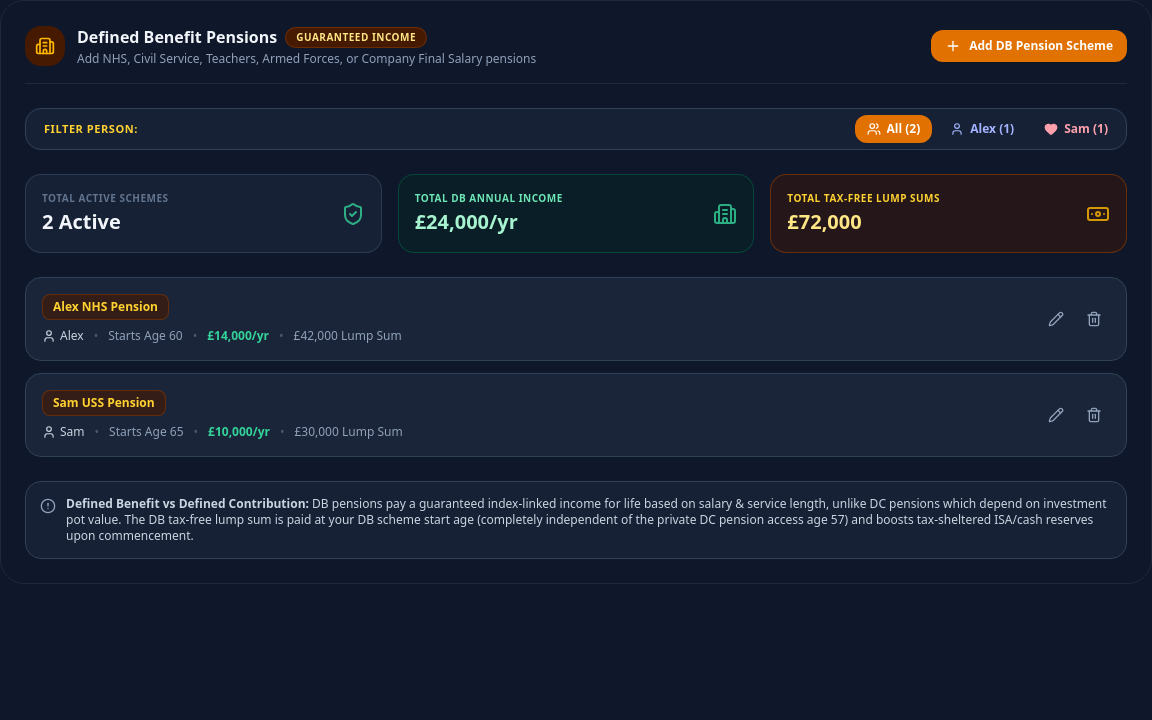
Test: DbPensionManager › supports couple planning mode with person filtering tabs
The width and height of the screenshot is (1152, 720).
Expected: the text "Alex NHS Pension" is shown, top-left (42, 294), bottom-right (169, 320)
Expected: the text "Sam USS Pension" is shown, top-left (42, 390), bottom-right (166, 416)
// Click Alex (Primary) filter button
Click the button "Alex (1)" at [982, 129], box top-left (938, 115), bottom-right (1026, 143)
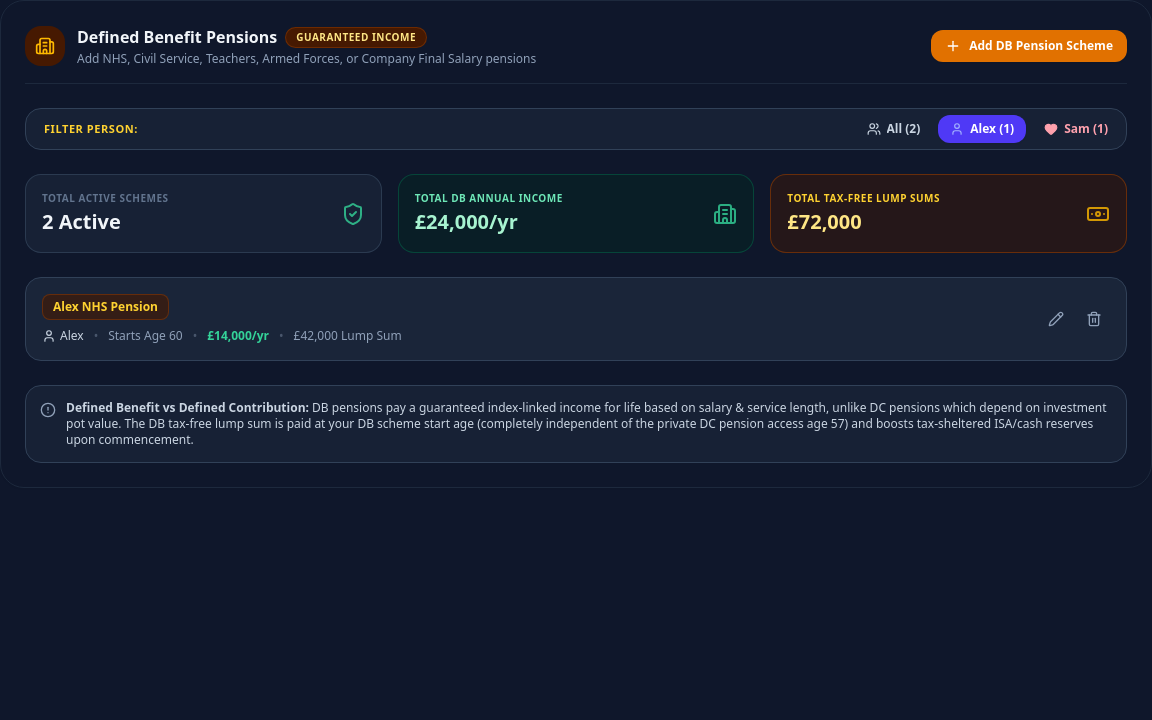
Expected: the text "Alex NHS Pension" is shown, top-left (42, 294), bottom-right (169, 320)
Expected: the text "Sam USS Pension" is gone
// Click Sam (Partner) filter button
Click the button "Sam (1)" at [1076, 129], box top-left (1032, 115), bottom-right (1120, 143)
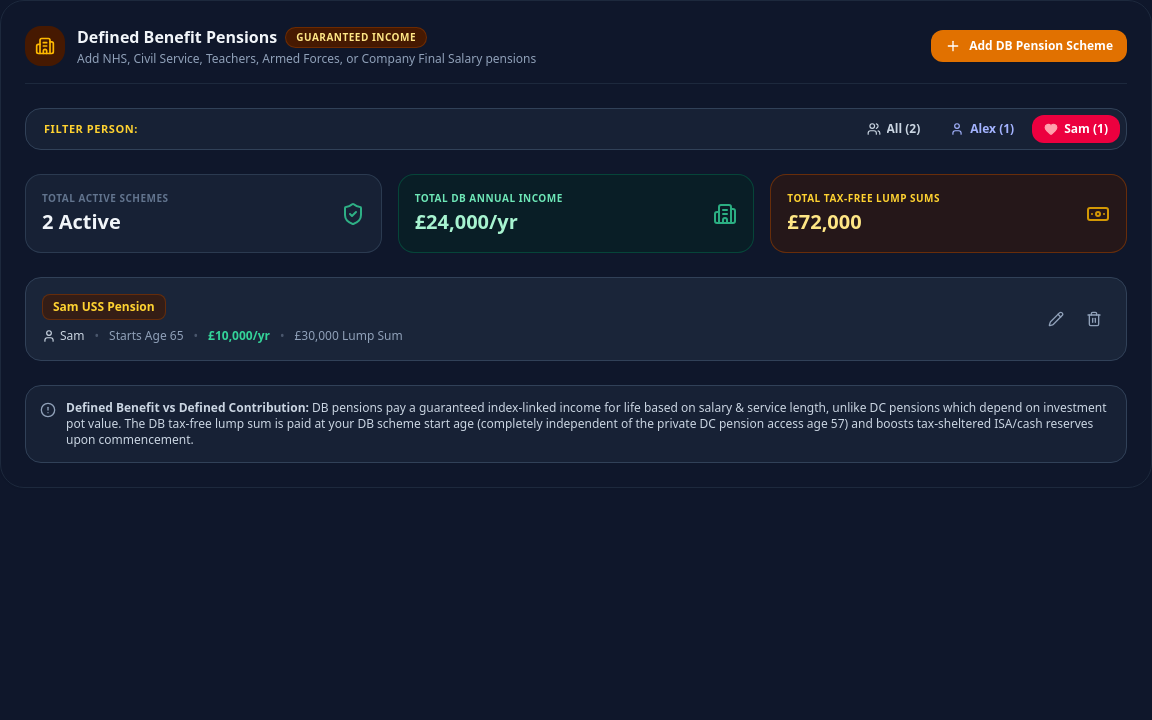
Expected: the text "Sam USS Pension" is shown, top-left (42, 294), bottom-right (166, 320)
Expected: the text "Alex NHS Pension" is gone
// Click All filter button
Click the button "All (2)" at [893, 129], box top-left (854, 115), bottom-right (932, 143)
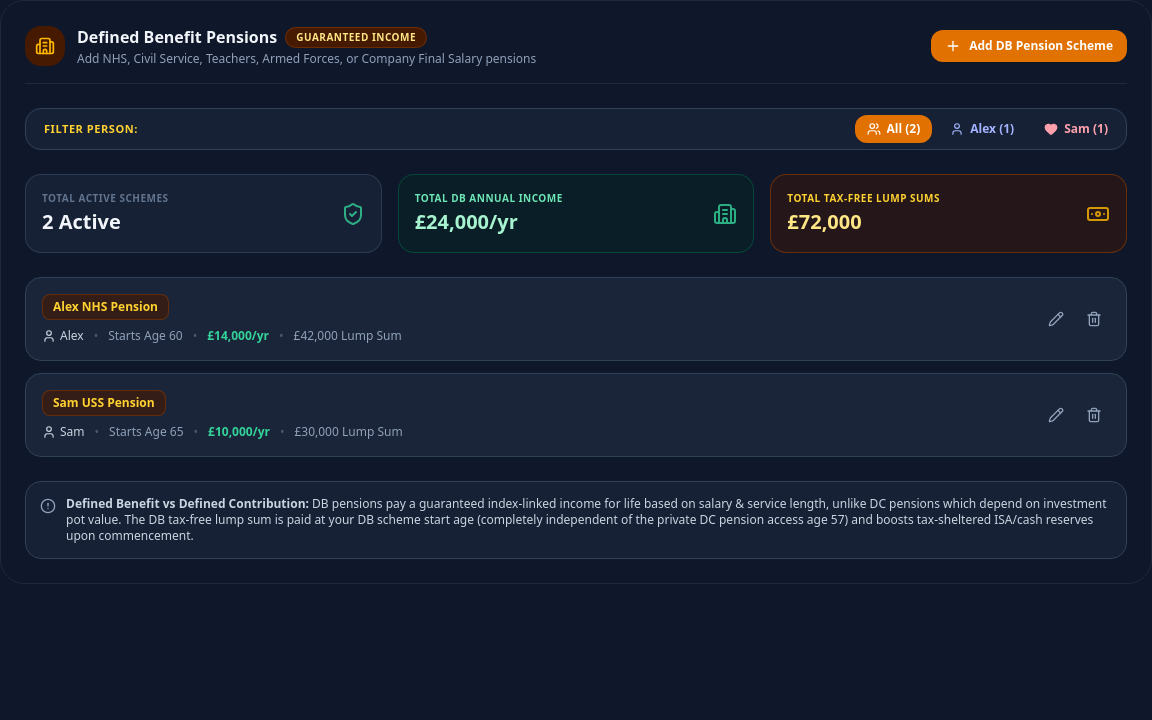
Expected: the text "Sam USS Pension" is shown, top-left (42, 390), bottom-right (166, 416)
Expected: the text "Alex NHS Pension" is shown, top-left (42, 294), bottom-right (169, 320)
